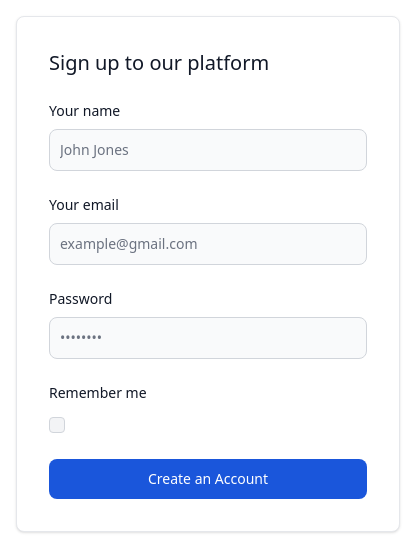
Test case: SignUp Component › shows a loading state when signing up
The image size is (417, 551).
Type "John Doe" into the field labelled "Your name" at coordinates (208, 150), box [49, 129, 367, 171]
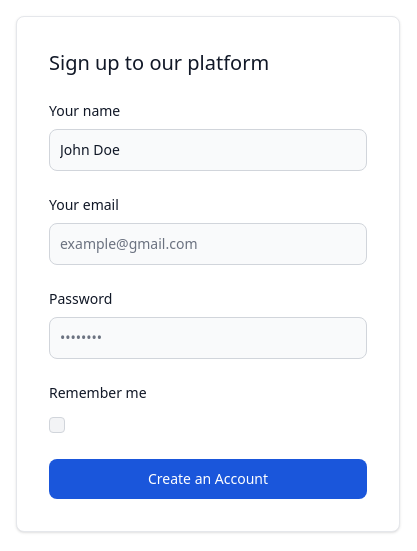
Type "john@example.com" into the field labelled "Your email" at coordinates (208, 244), box [49, 223, 367, 265]
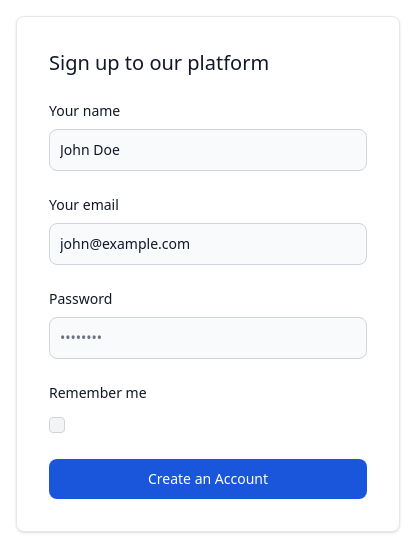
Type "password123" into the password field labelled "Password" at coordinates (208, 338), box [49, 317, 367, 359]
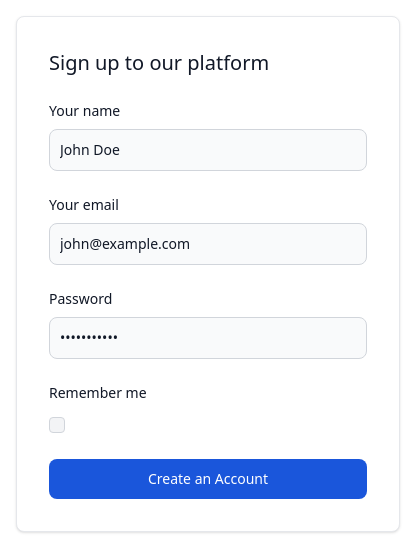
Click the button "Create an Account" at coordinates (208, 479), box [49, 459, 367, 499]
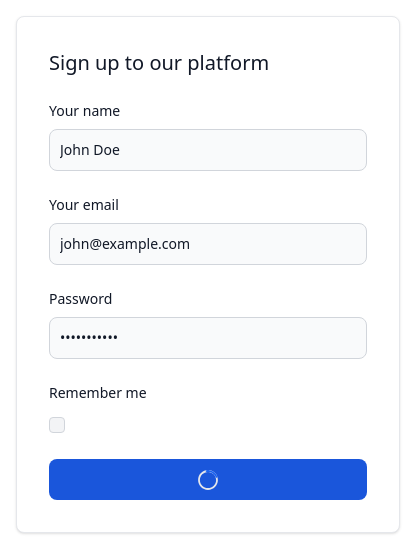
Expected: the message is shown, [198, 470, 218, 490]
